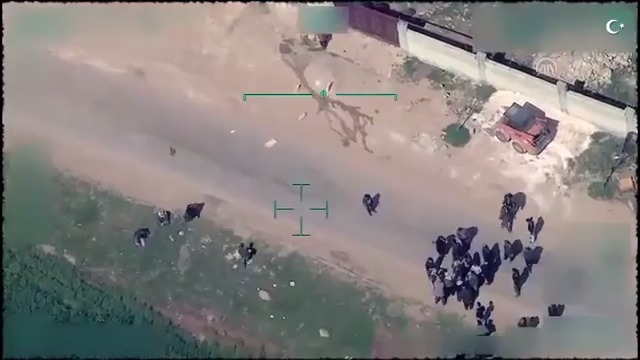insan: (231, 241, 252, 269), (358, 187, 376, 215), (510, 267, 525, 299), (470, 302, 486, 325), (525, 213, 536, 239)
